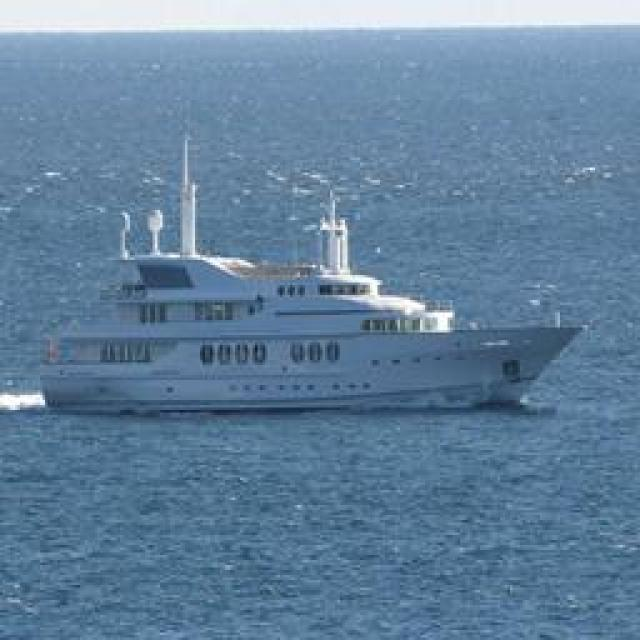ship2: (41, 134, 590, 421)
